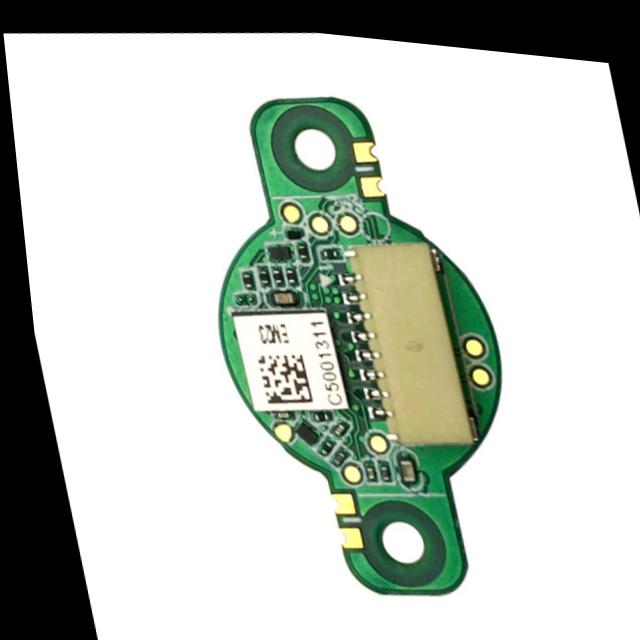datamatrix: (247, 340, 308, 404)
